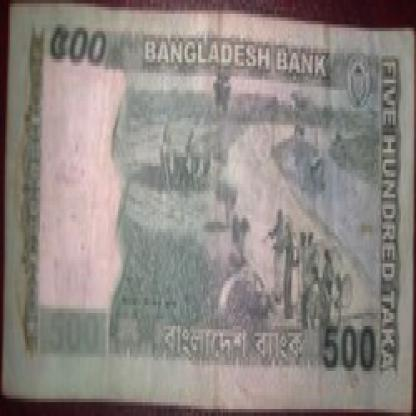500 taka: (42, 18, 114, 76)
currency: (5, 0, 414, 413)
